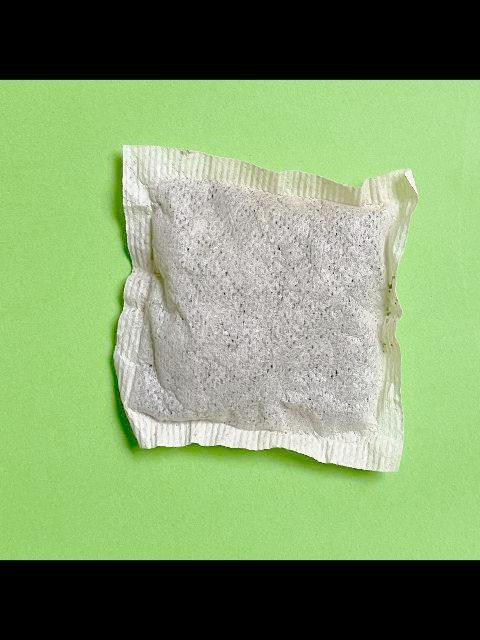teabag: (110, 142, 420, 474)
